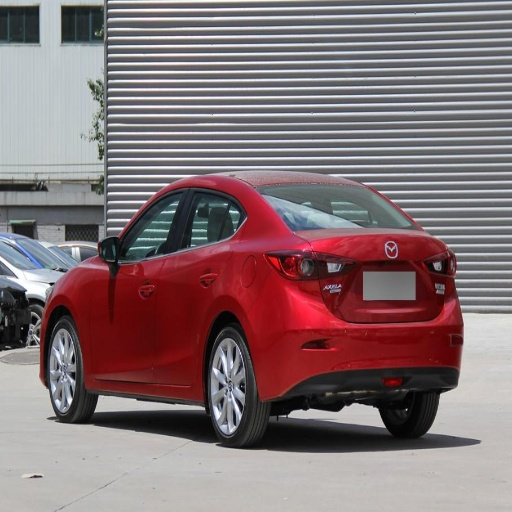_background_: (254, 295, 460, 397)
back_bumper: (270, 178, 412, 231)
back_glass: (156, 185, 244, 387)
back_left_door: (268, 249, 328, 293)
front_glass: (89, 185, 186, 381)
right_mirror: (304, 227, 437, 321)
tailgate: (344, 238, 444, 338)
trunk: (206, 324, 265, 445), (45, 316, 93, 421), (383, 395, 437, 436)
